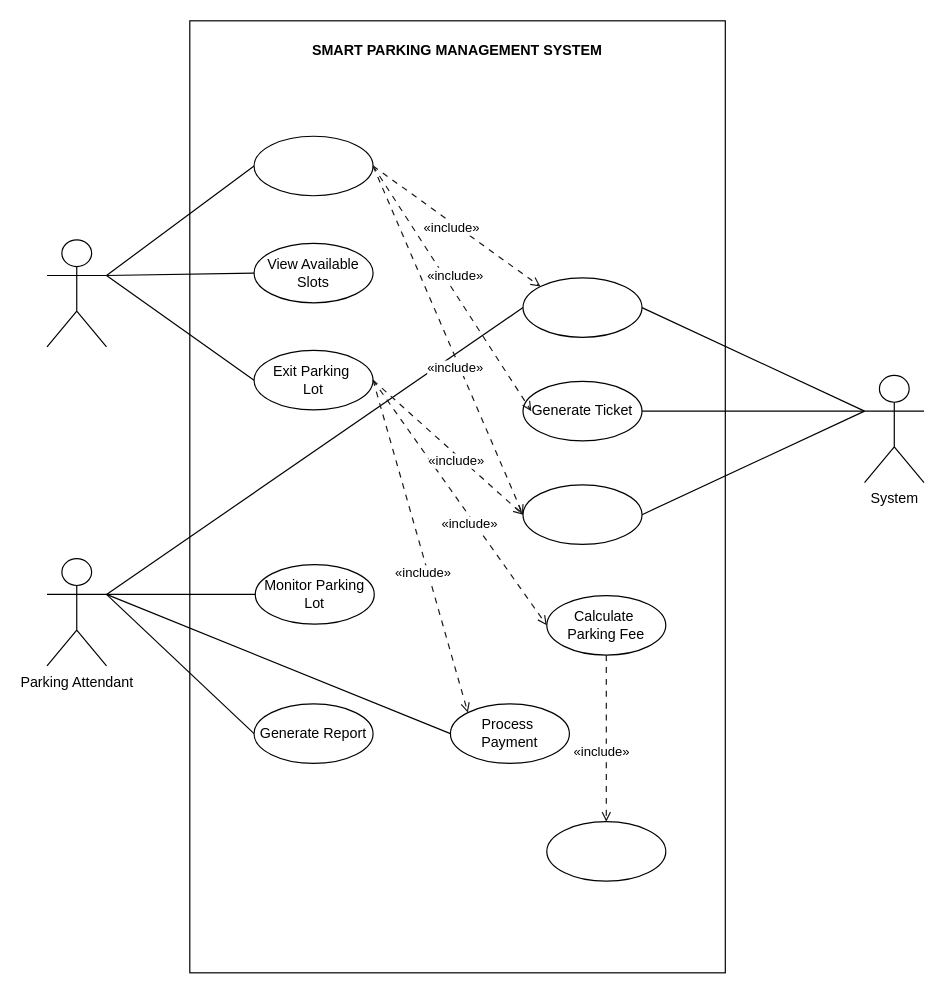
This 945x994 diagram has some shape labels left out. Each missing label, with the box of its shape:
Assign Parking Lot: (522, 277, 642, 337)
Driver: (46, 239, 107, 347)
Enter Parking Lot: (253, 135, 373, 196)
Open/Close Gate: (522, 484, 642, 544)
Tracking Parking Duration: (546, 821, 666, 881)
